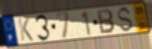1: (81, 10, 92, 37)
3: (33, 14, 51, 42)
7: (55, 11, 71, 41)
B: (96, 9, 117, 35)
K: (17, 17, 35, 42)
S: (117, 5, 135, 34)
